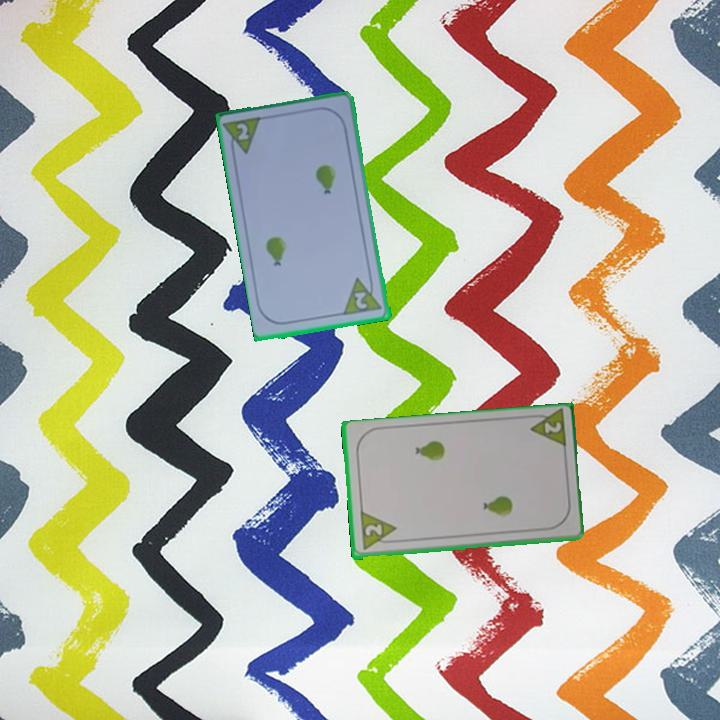2p: (341, 273, 385, 318), (525, 408, 569, 452), (356, 510, 399, 553), (233, 119, 252, 144)
